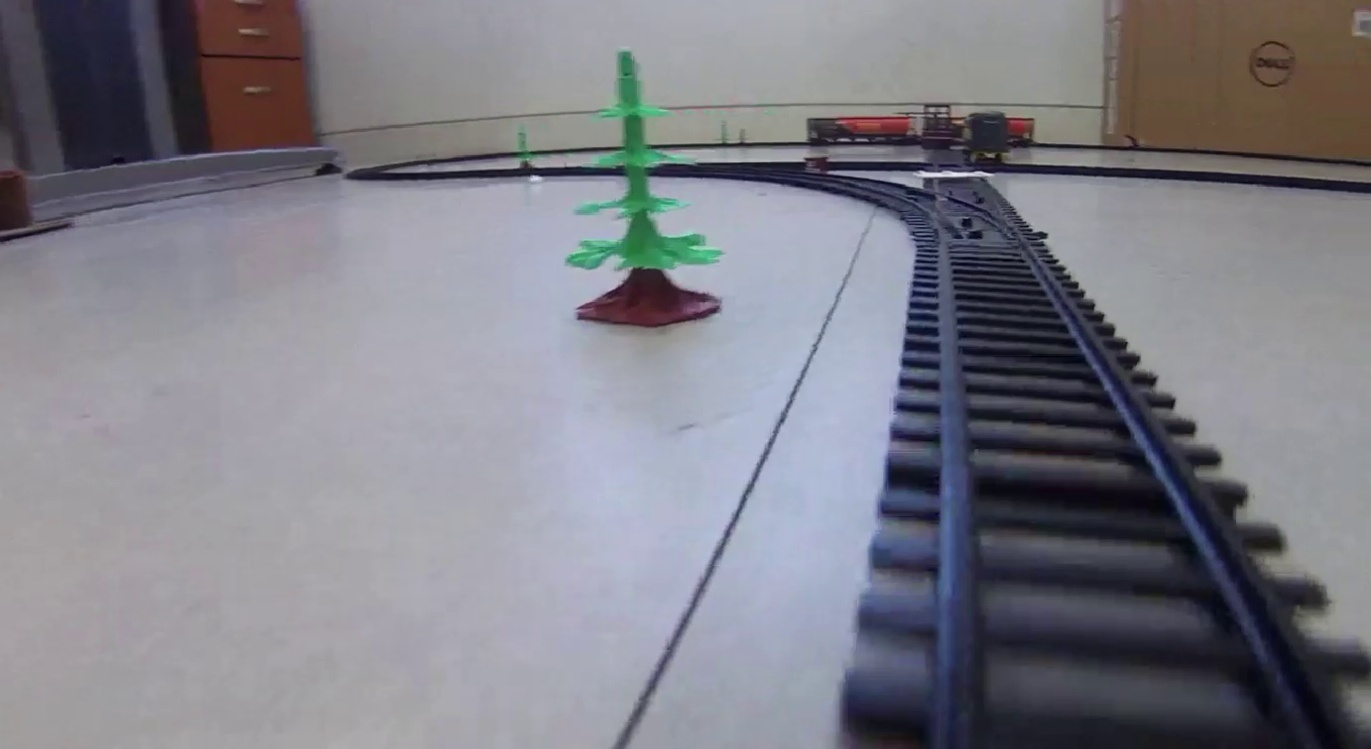tree: (561, 52, 723, 325)
